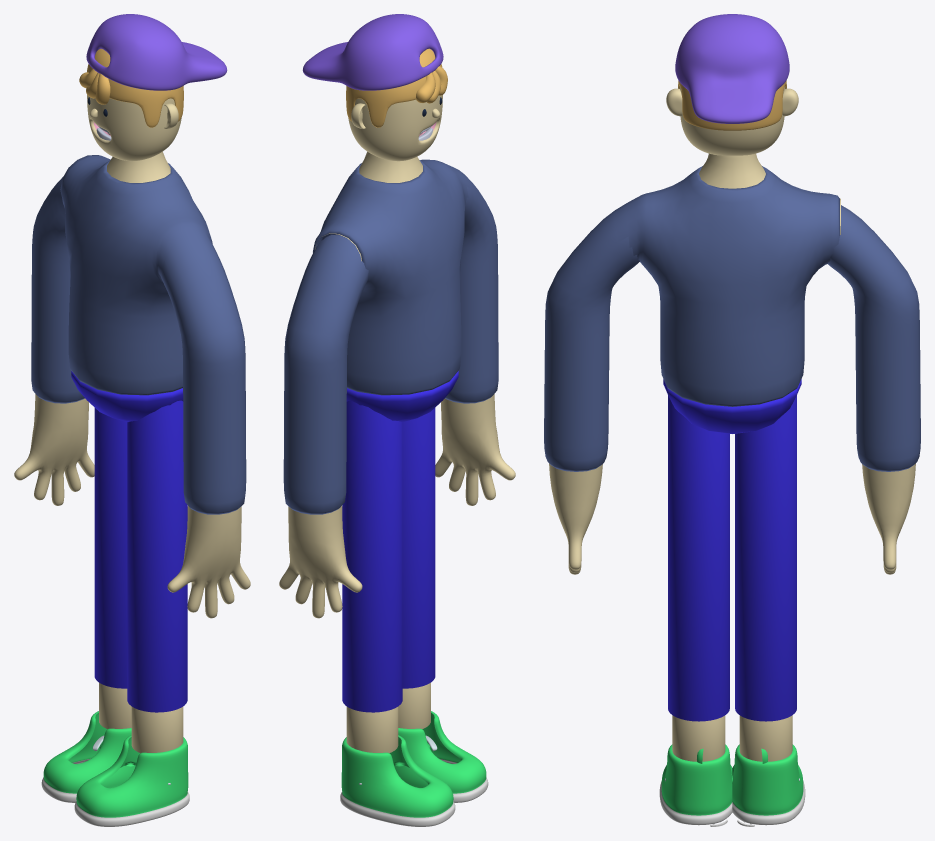
Rendered from Player_arms_down_turned.fbx.
3 renders of one model, left to right at view 1: azimuth 30°, elevation 25°; view 2: azimuth 150°, elevation 25°; view 3: azimuth 270°, elevation 25°, orthographic. The views are drawn at different scales.
Visible parts, largest first — view 1: Jumper, Trousers Legs, Shoe, Jumper.001, Hat, Torso, Torso.001, Head, Trousers, Hair, Fringe3; view 2: Jumper, Trousers Legs, Jumper.001, Shoe, Hat, Torso, Torso.001, Head, Trousers, Hair, Fringe3; view 3: Jumper, Trousers Legs, Jumper.001, Hat, Shoe, Torso, Torso.001, Trousers, Head, Hair, Ears.
Part boxes in pixels (<box>): Jumper: <box>60,155,246,514</box>; Trousers Legs: <box>94,400,187,753</box>; Shoe: <box>41,711,189,826</box>; Jumper.001: <box>31,176,219,403</box>; Hat: <box>86,14,227,90</box>; Torso: <box>107,151,250,618</box>; Torso.001: <box>14,394,94,505</box>; Head: <box>87,95,181,161</box>; Trousers: <box>71,371,183,421</box>; Hair: <box>87,48,183,127</box>; Fringe3: <box>79,69,110,104</box>; Jumper: <box>313,159,498,403</box>; Trousers Legs: <box>342,401,435,753</box>; Jumper.001: <box>283,178,482,514</box>; Shoe: <box>340,711,488,826</box>; Hat: <box>302,14,443,90</box>; Torso: <box>315,151,515,505</box>; Torso.001: <box>279,506,362,618</box>; Head: <box>348,95,442,161</box>; Trousers: <box>346,371,458,421</box>; Hair: <box>346,48,442,127</box>; Fringe3: <box>416,66,447,103</box>; Jumper: <box>544,166,840,471</box>; Trousers Legs: <box>668,395,796,761</box>; Jumper.001: <box>597,205,920,471</box>; Hat: <box>675,14,789,123</box>; Shoe: <box>659,744,805,825</box>; Torso: <box>549,153,840,574</box>; Torso.001: <box>862,463,915,574</box>; Trousers: <box>663,379,801,433</box>; Head: <box>679,86,785,155</box>; Hair: <box>678,80,786,130</box>; Ears: <box>666,88,798,116</box>.
Bounding box in the file's own units: 54.8 × 262 × 113.
